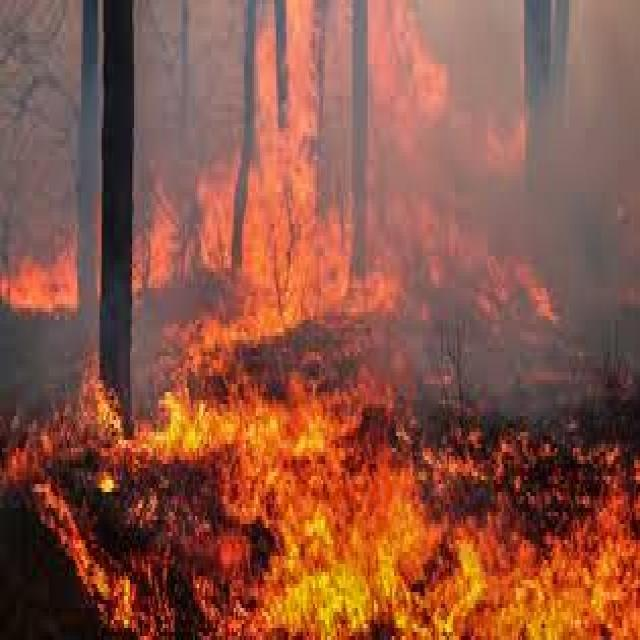Fire: (4, 332, 640, 639), (130, 0, 563, 331), (0, 220, 79, 324), (96, 190, 105, 310)
Smoke: (0, 0, 640, 332)
